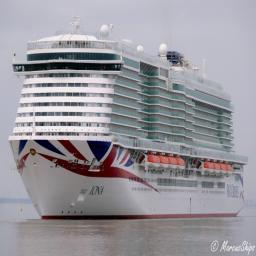cruises: (9, 15, 251, 223)
